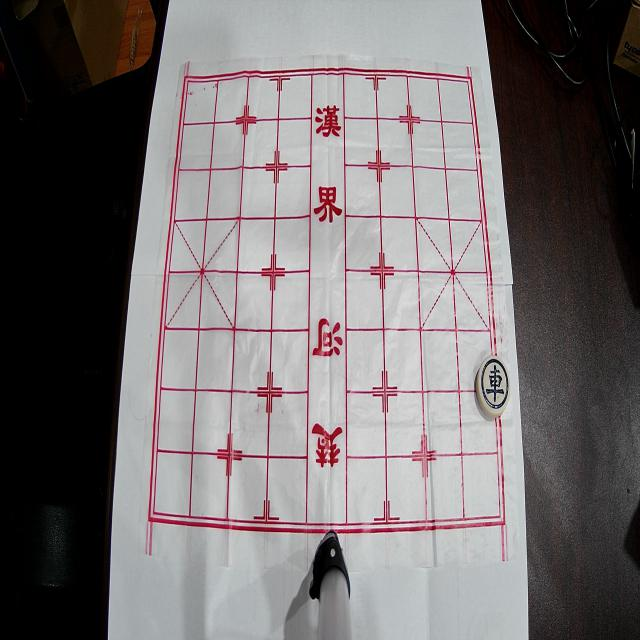black-chariot: (476, 355, 511, 418)
